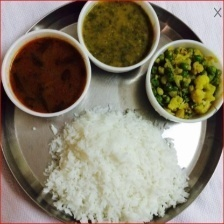rice: (42, 105, 190, 224)
